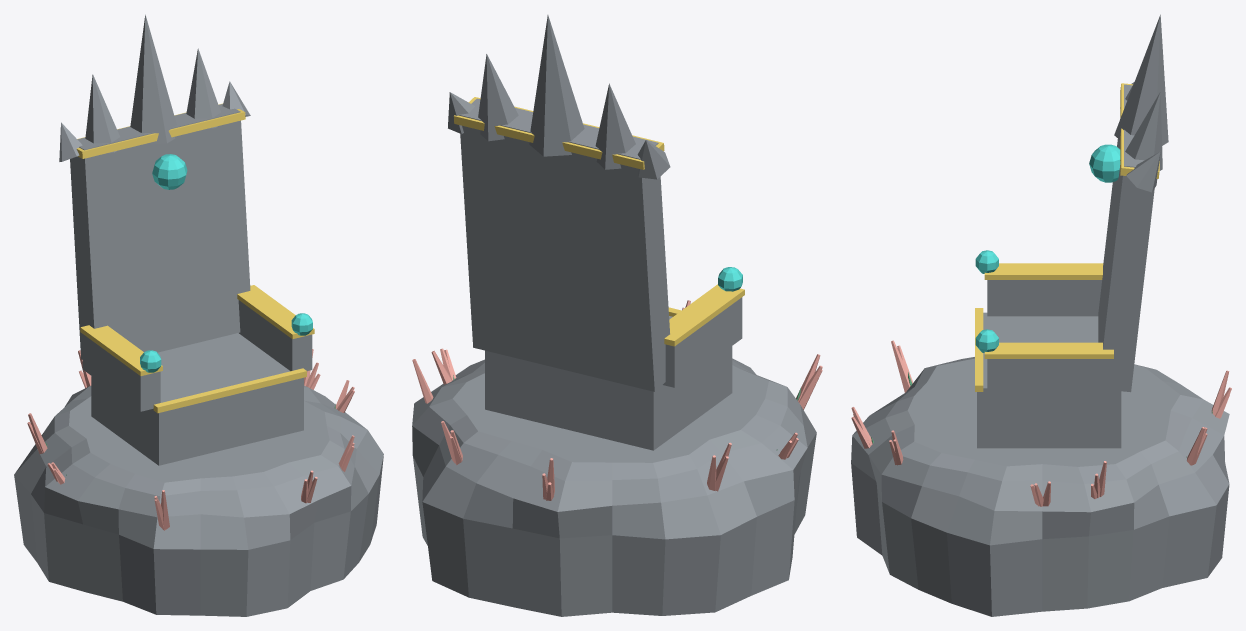
File: KrakenThrone.fbx
The picture shows the model from 3 angles, left to right: view 1: azimuth 30°, elevation 25°; view 2: azimuth 150°, elevation 25°; view 3: azimuth 270°, elevation 25°; orthographic projection. The views are drawn at different scales.
Parts seen in each view (by area): view 1: KrakenThrone; view 2: KrakenThrone; view 3: KrakenThrone.
Part boxes in pixels (bbox=[...]): KrakenThrone: bbox=[14, 14, 383, 616]; KrakenThrone: bbox=[412, 15, 822, 616]; KrakenThrone: bbox=[851, 14, 1231, 616].
Size of the model in its own units: 28.27 by 42 by 27.69.
